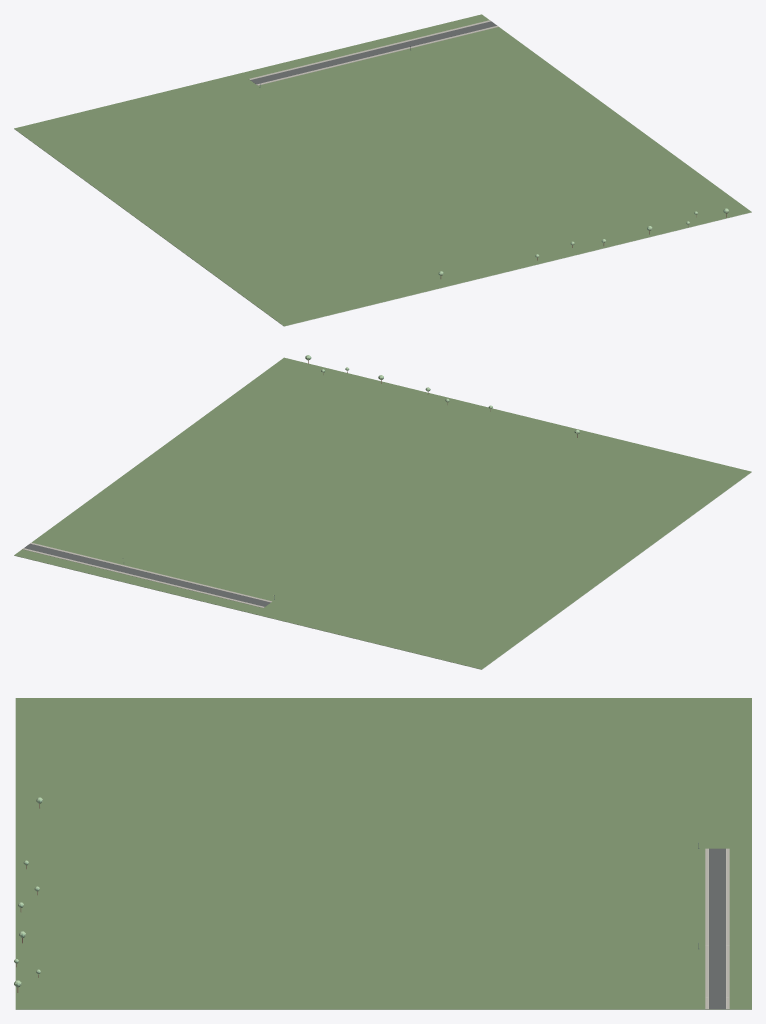
Rendered from chunk_0_2_high.glb.
The picture shows the model from 3 angles, top to bottom: view 1: azimuth 30°, elevation 25°; view 2: azimuth 150°, elevation 25°; view 3: azimuth 270°, elevation 25°; orthographic projection. The views are drawn at different scales.
Visible parts, largest first — view 1: city_forest_floor, city_world_asphalt, city_world_sidewalk, city_grass; view 2: city_forest_floor, city_world_asphalt, city_world_sidewalk, city_grass; view 3: city_forest_floor, city_world_asphalt, city_world_sidewalk, city_grass.
Boxes of the visible parts, x1=… form: city_forest_floor: x1=14, y1=14, x2=751, y2=326; city_world_asphalt: x1=250, y1=21, x2=496, y2=84; city_world_sidewalk: x1=249, y1=20, x2=498, y2=85; city_grass: x1=14, y1=129, x2=751, y2=326; city_forest_floor: x1=14, y1=357, x2=751, y2=669; city_world_asphalt: x1=24, y1=544, x2=270, y2=606; city_world_sidewalk: x1=22, y1=542, x2=271, y2=607; city_grass: x1=14, y1=472, x2=751, y2=669; city_forest_floor: x1=15, y1=698, x2=751, y2=1009; city_world_asphalt: x1=709, y1=848, x2=725, y2=1009; city_world_sidewalk: x1=705, y1=848, x2=729, y2=1009; city_grass: x1=15, y1=1009, x2=751, y2=1009.
Size of the model in its own units: 512 by 9.77 by 513.
